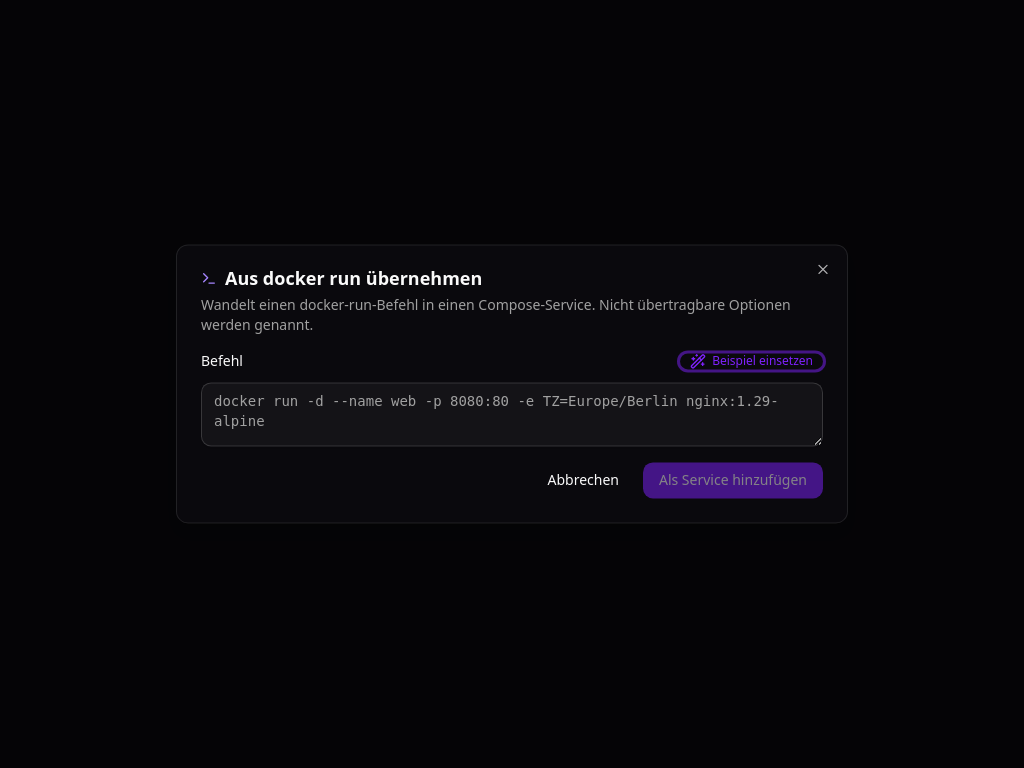
Test: docker run conversion on the hub › keeps the local live preview in the demo
Type "docker run nginx:1.29" into the text box labelled "Befehl".
click(512, 415); type("docker run nginx:1.29")  # box 201,383 -> 823,447
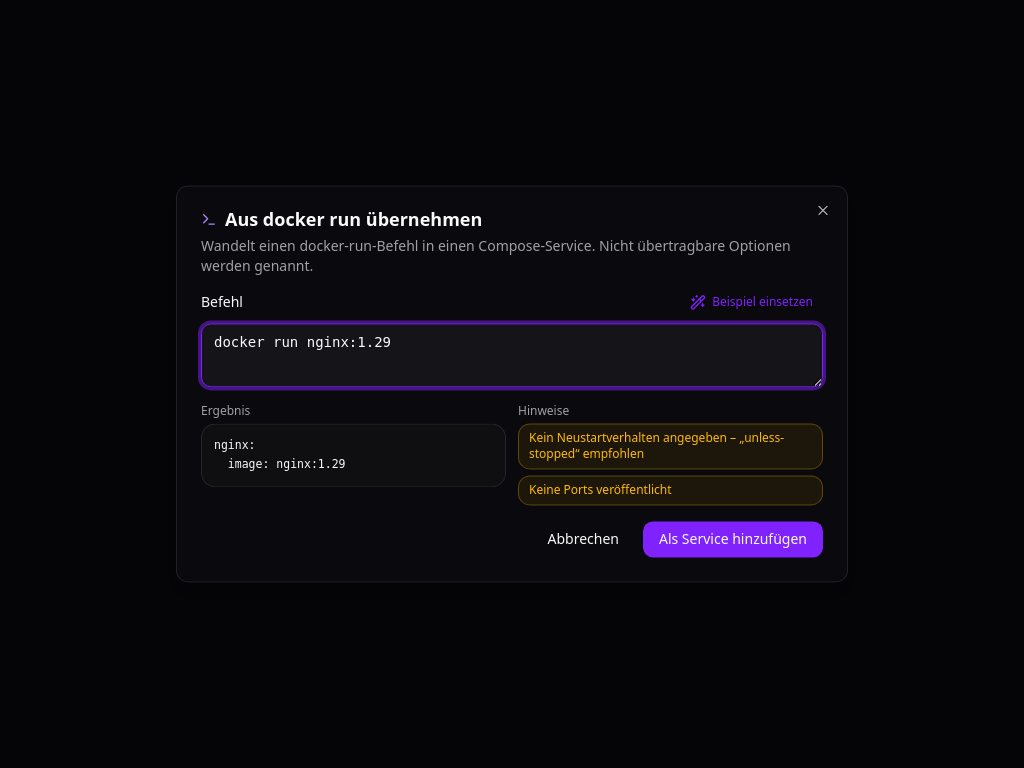
Check: the button "Als Service hinzufügen" is enabled, box 643,522 -> 823,558
